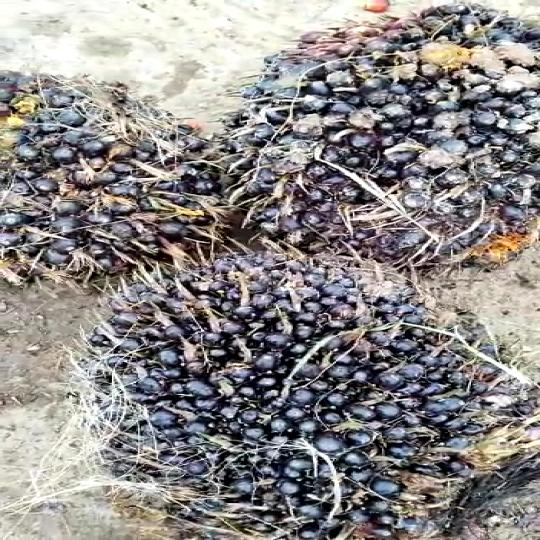mentah: (78, 248, 519, 540), (219, 0, 540, 265), (0, 57, 230, 276)
